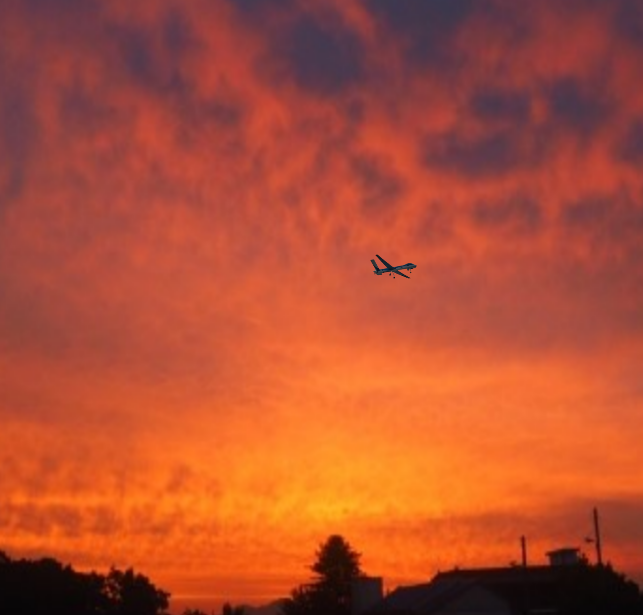military drone: (370, 253, 417, 278)
